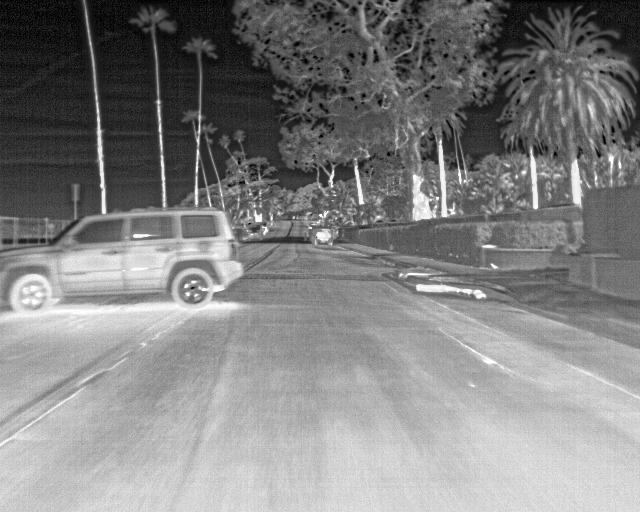car: (0, 208, 247, 314), (310, 227, 336, 246)
